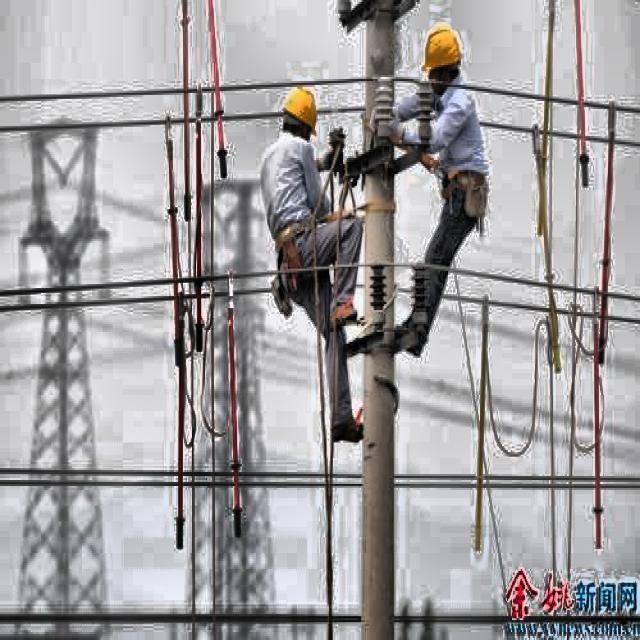helmet: (418, 16, 464, 99), (276, 83, 320, 150)
